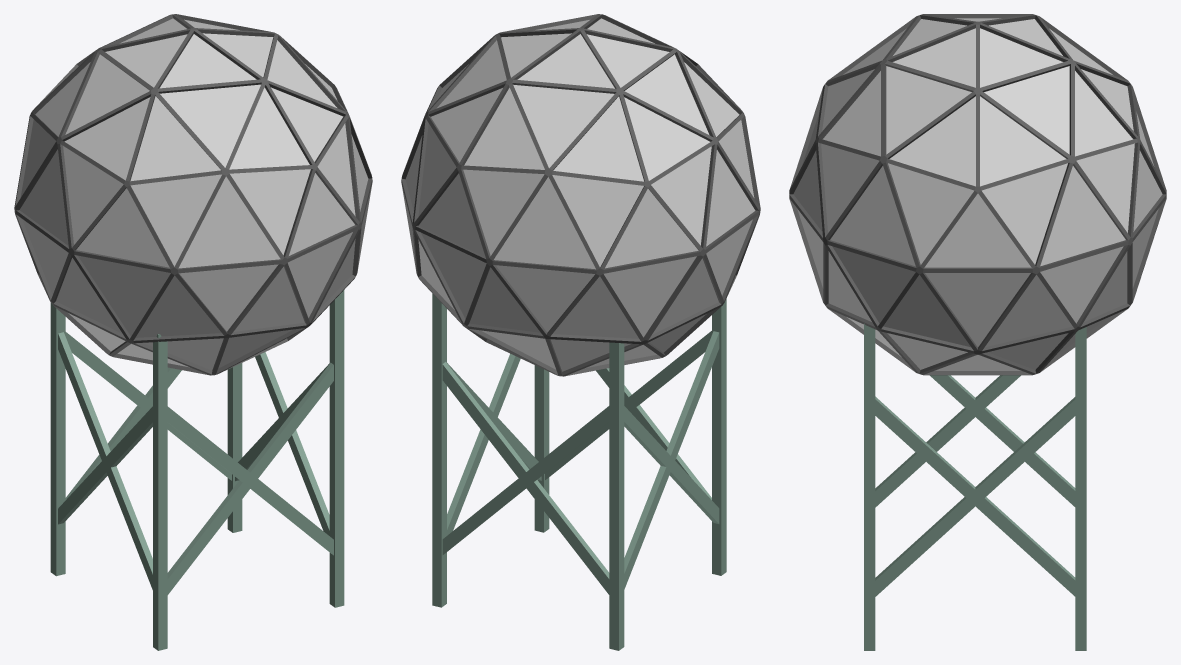
The model's file is MSphere.fbx.
3 views of the same model, side by side, from view 1: azimuth 30°, elevation 25°; view 2: azimuth 150°, elevation 25°; view 3: azimuth 270°, elevation 25° (orthographic). The views are drawn at different scales.
Visible parts, largest first — view 1: Sphere; view 2: Sphere; view 3: Sphere.
Boxes of the visible parts, box(x1,y1,x2,y2) form: Sphere: box(14, 14, 372, 650); Sphere: box(401, 14, 760, 650); Sphere: box(789, 14, 1166, 650).
Bounding box in the file's own units: 51.28 × 90.69 × 53.57.
